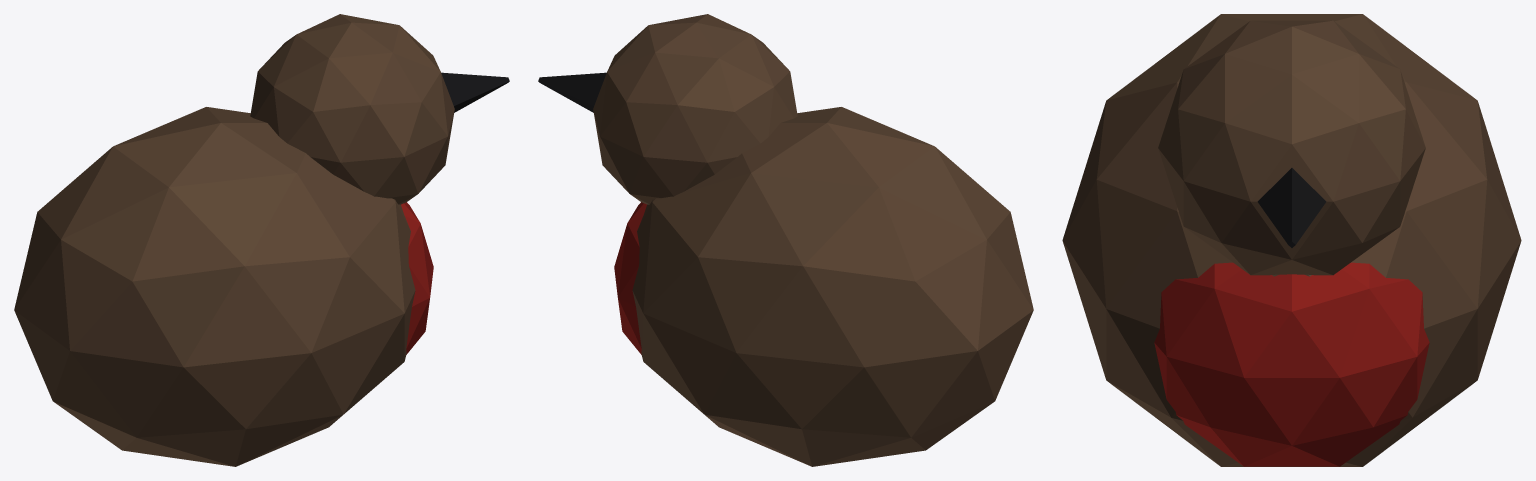
Rendered from village_robin.glb.
The picture shows the model from 3 angles, left to right: view 1: azimuth 30°, elevation 25°; view 2: azimuth 150°, elevation 25°; view 3: azimuth 270°, elevation 25°; orthographic projection. The views are drawn at different scales.
Visible parts, largest first — view 1: village_robin; view 2: village_robin; view 3: village_robin.
Part boxes in pixels (x1,y1,x2,y2): village_robin: [14, 14, 509, 466]; village_robin: [538, 14, 1033, 466]; village_robin: [1062, 14, 1521, 466].
Bounding box in the file's own units: 0.1785 × 0.145 × 0.12.
